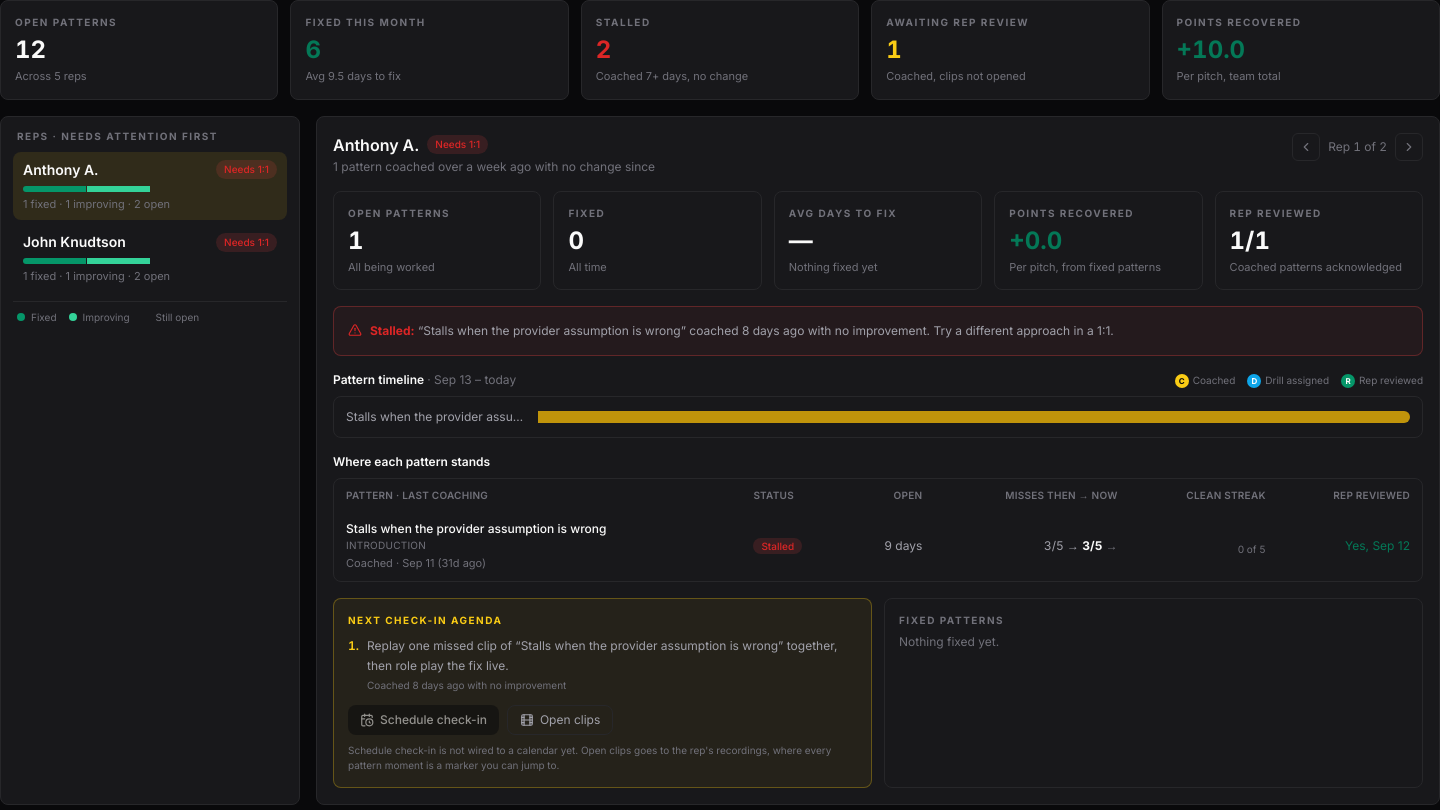
Test: the rep list › pages through the reps with the arrows, as the board does
The width and height of the screenshot is (1440, 810).
Expected: the text "Rep 1 of 2" is shown, [1324,138,1391,154]
Click the button named "Next rep" at coordinates (1409, 146), box [1395,132,1423,160]
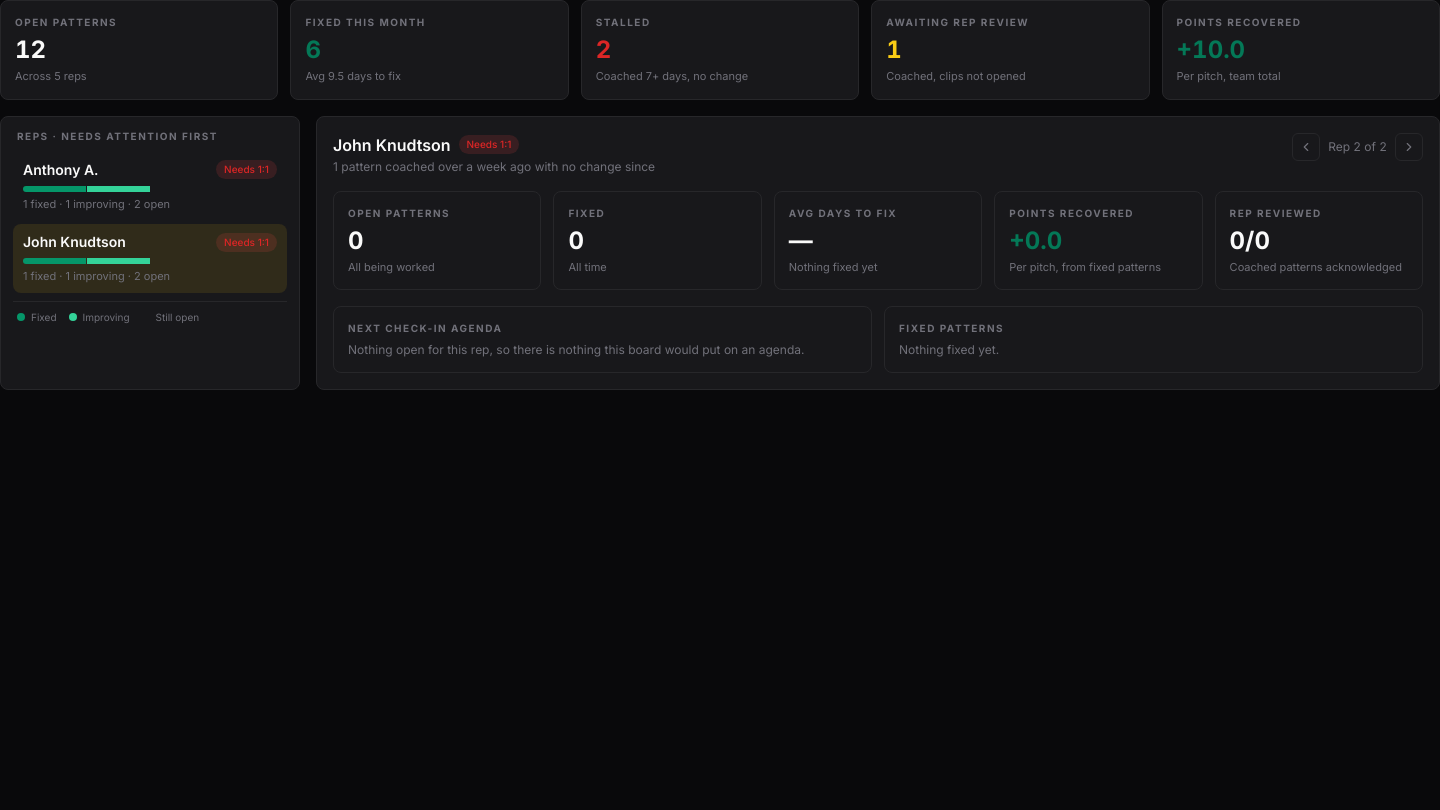
Result: the text "Rep 2 of 2" is shown at [1324,138,1391,154]
